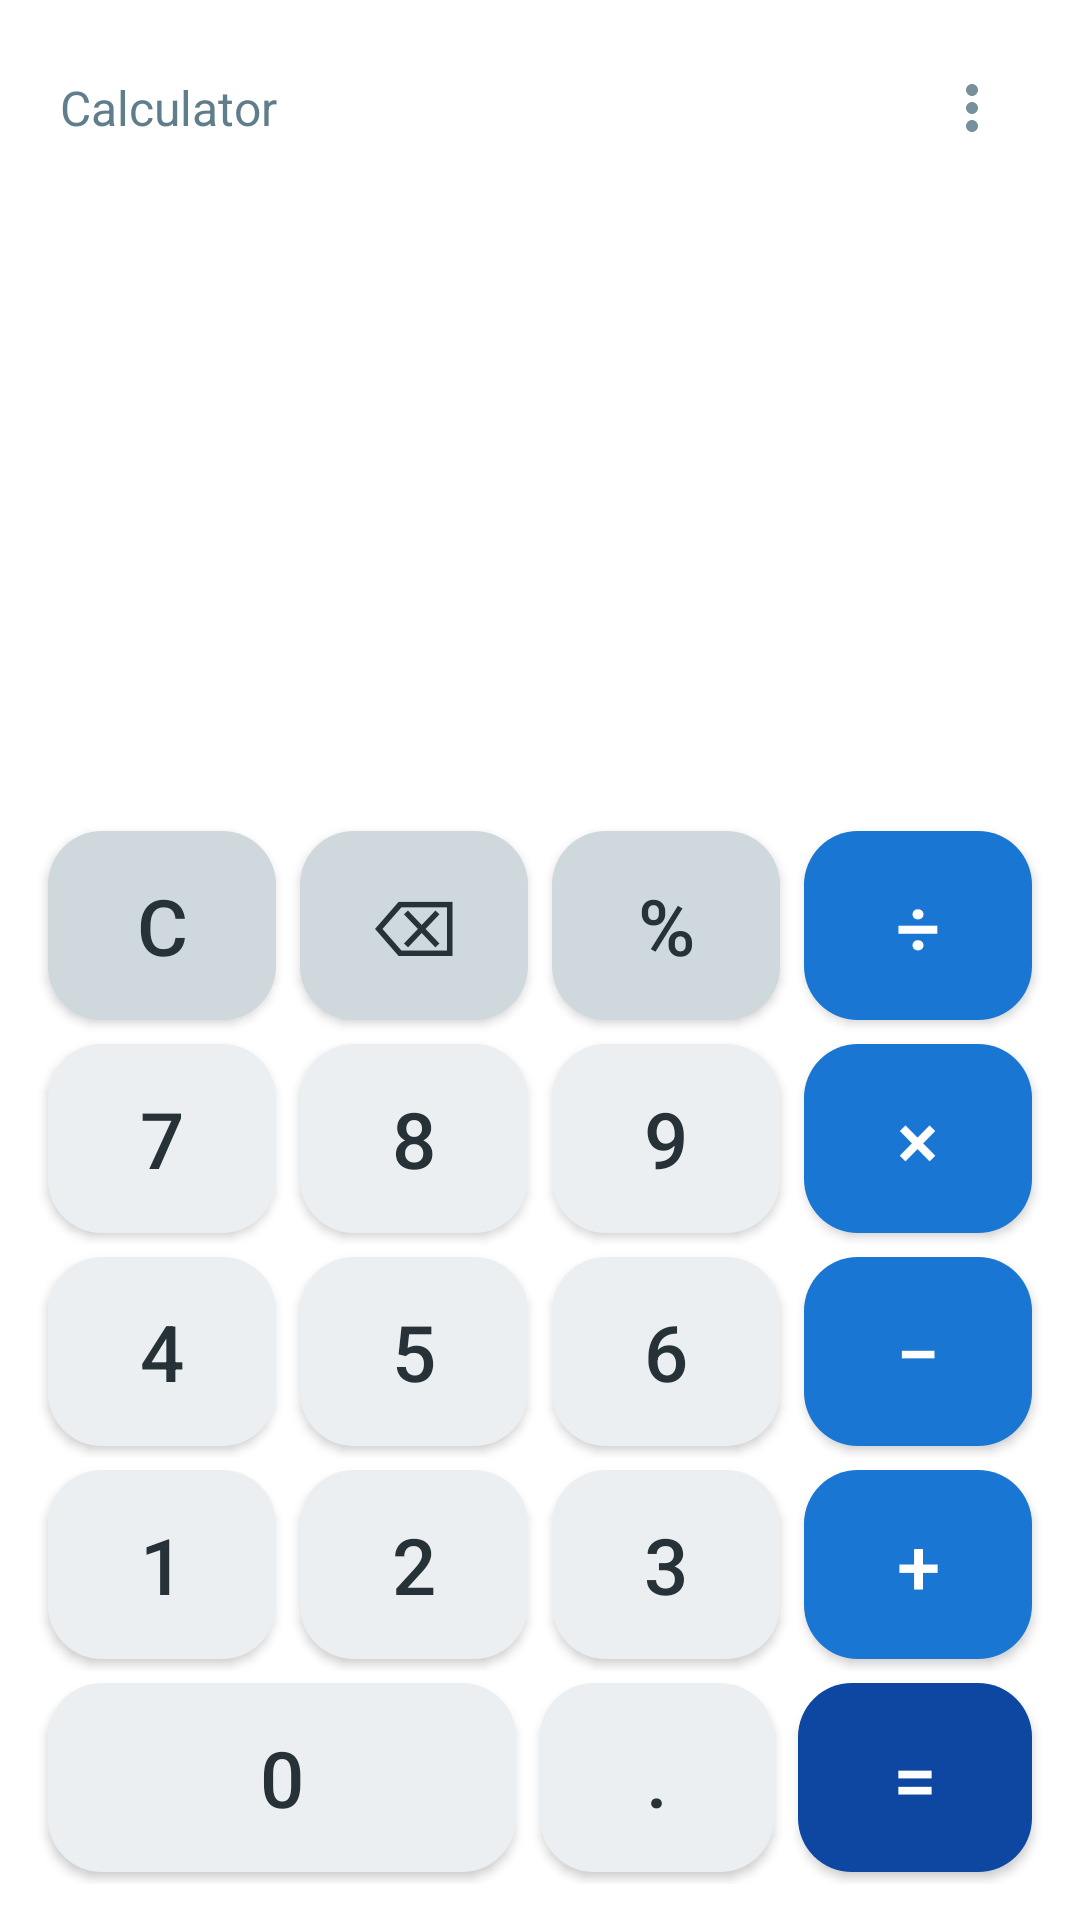

Screen size 1080 × 1920. Icon name, then its box in pixels as (x1, y1, x2, y2):
Menu: (966, 84, 978, 132)
